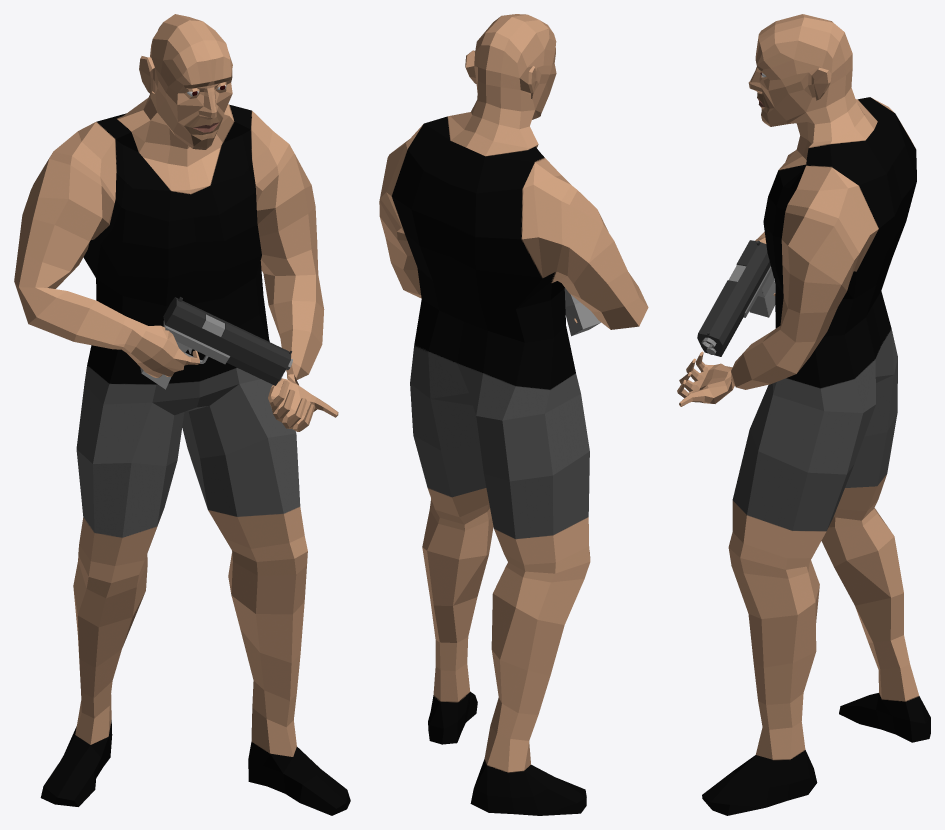
The model's file is PlayerIdle(51).obj.
The picture shows the model from 3 angles, left to right: view 1: azimuth 30°, elevation 25°; view 2: azimuth 150°, elevation 25°; view 3: azimuth 270°, elevation 25°; orthographic projection. The views are drawn at different scales.
Visible parts, largest first — view 1: Plane002, Box003; view 2: Plane002, Box003; view 3: Plane002, Box003.
Boxes of the visible parts, bbox=[...] form: Plane002: bbox=[14, 14, 350, 815]; Box003: bbox=[140, 297, 292, 389]; Plane002: bbox=[379, 14, 648, 815]; Box003: bbox=[564, 288, 600, 336]; Plane002: bbox=[677, 14, 930, 815]; Box003: bbox=[697, 240, 775, 356].
Size of the model in its own units: 672 by 1803 by 559.
